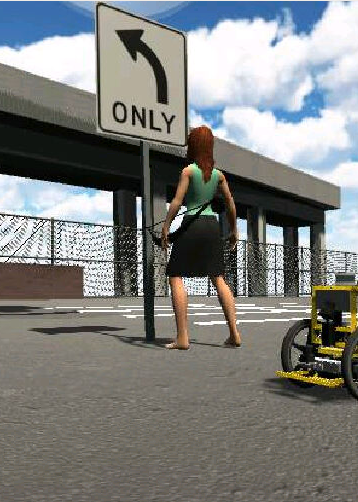arrow_left: (105, 27, 174, 103)
